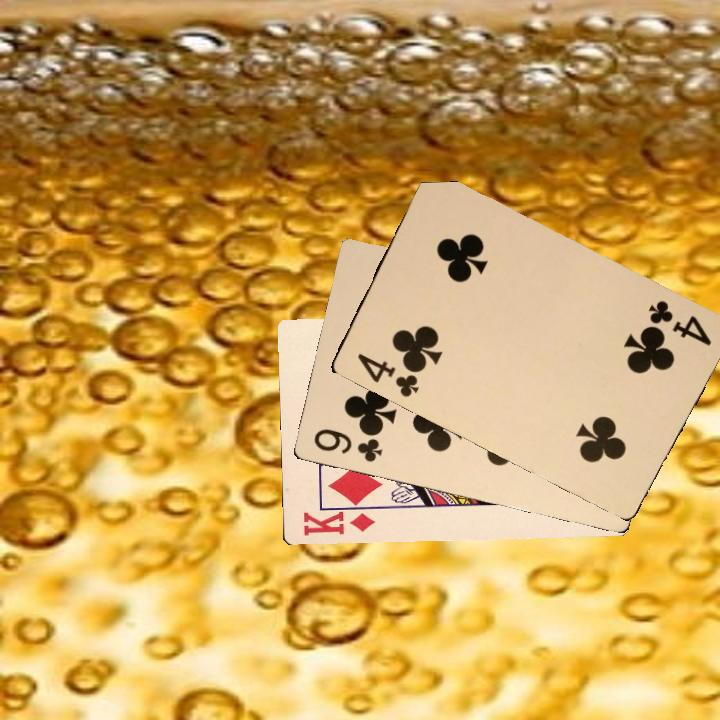4c: (644, 296, 714, 348), (353, 349, 423, 400)
9c: (310, 424, 385, 465)
Kd: (299, 499, 375, 538)
